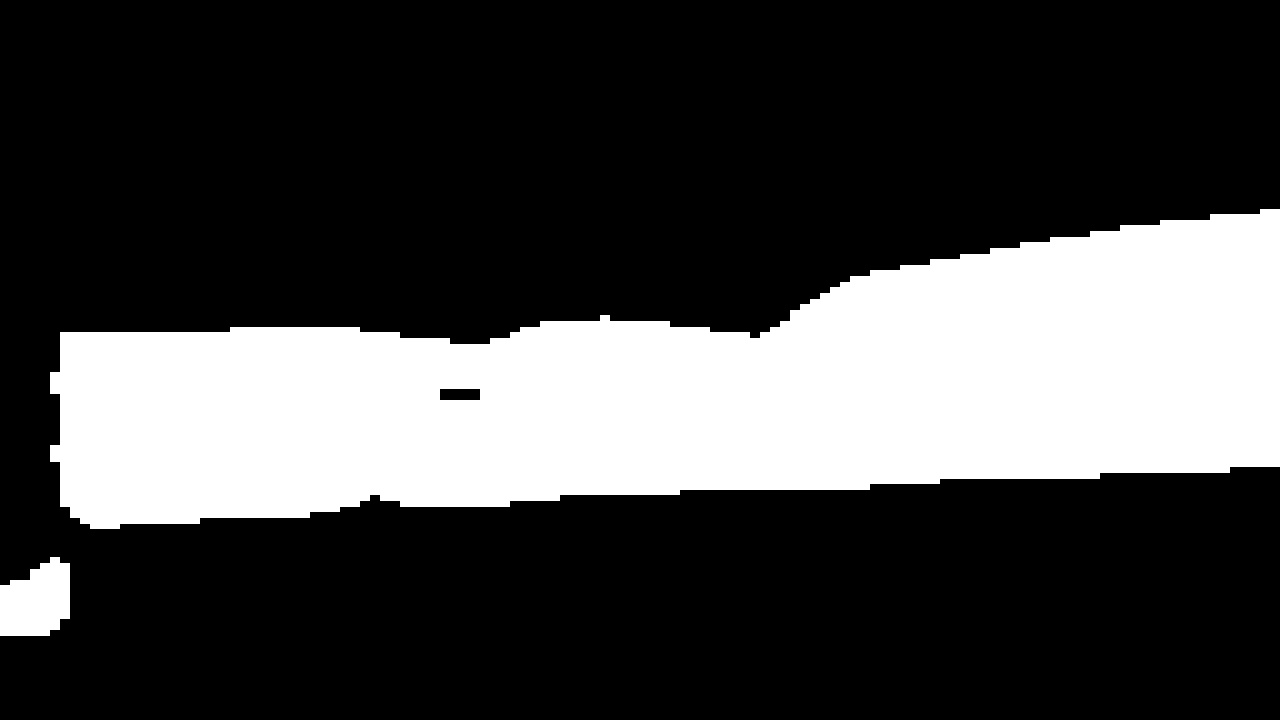Turbine: (40, 186, 1269, 546)
